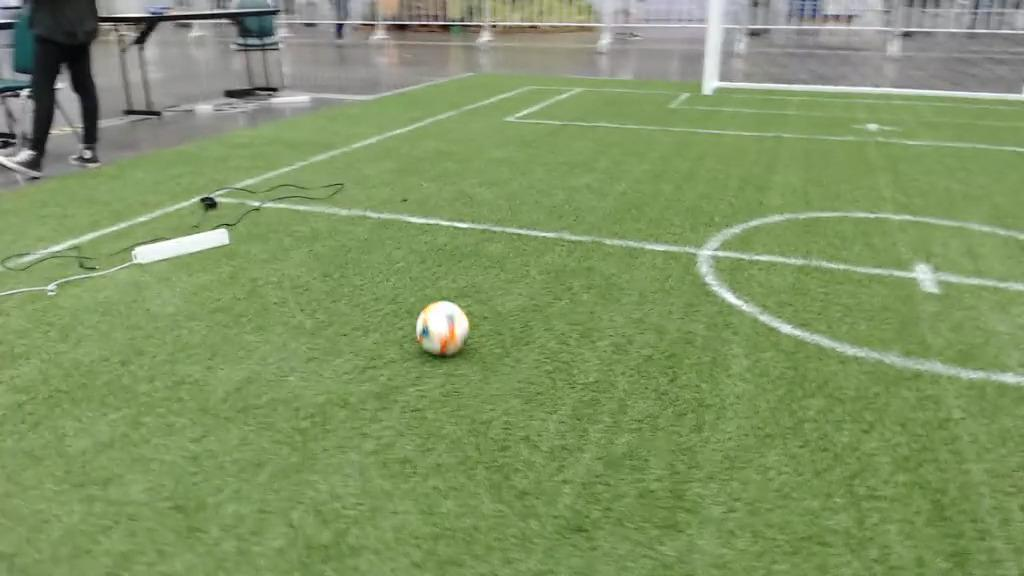ball: (417, 302, 470, 357)
